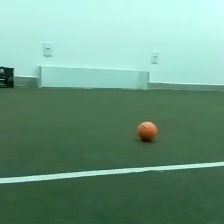ball: (135, 118, 159, 143)
goal: (34, 63, 151, 91)
robot: (1, 63, 17, 89)
